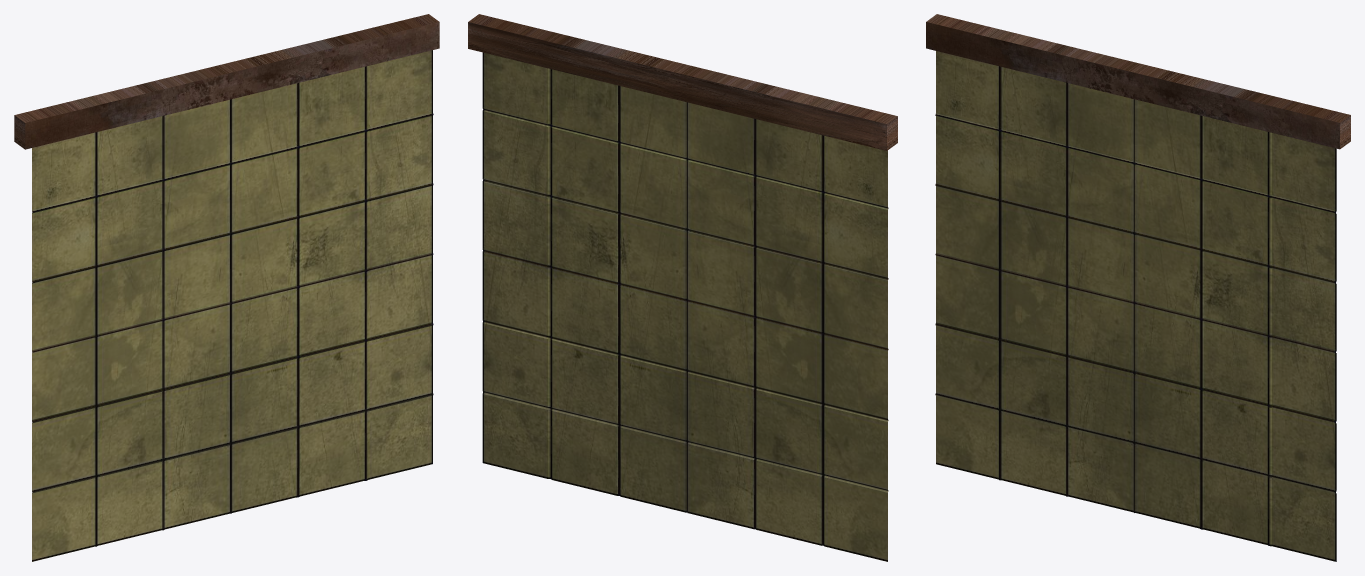
File: viezetegels.fbx
The picture shows the model from 3 angles, left to right: view 1: azimuth 30°, elevation 25°; view 2: azimuth 150°, elevation 25°; view 3: azimuth 330°, elevation 25°; orthographic projection.
Visible parts, largest first — view 1: dirtytiles, Plane; view 2: dirtytiles, Plane; view 3: dirtytiles, Plane.
Boxes of the visible parts, x1,y1,x2,y2 form: dirtytiles: (32,50,433,561); Plane: (14,14,439,149); dirtytiles: (482,52,888,561); Plane: (468,14,897,150); dirtytiles: (935,51,1336,561); Plane: (926,14,1350,149).
Bounding box in the file's own units: 207 × 211 × 9.34.
